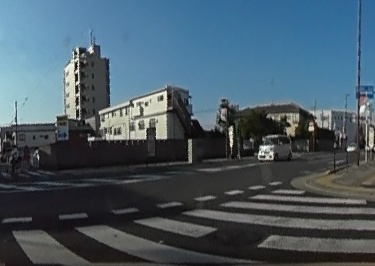person: (9, 140, 20, 168)
